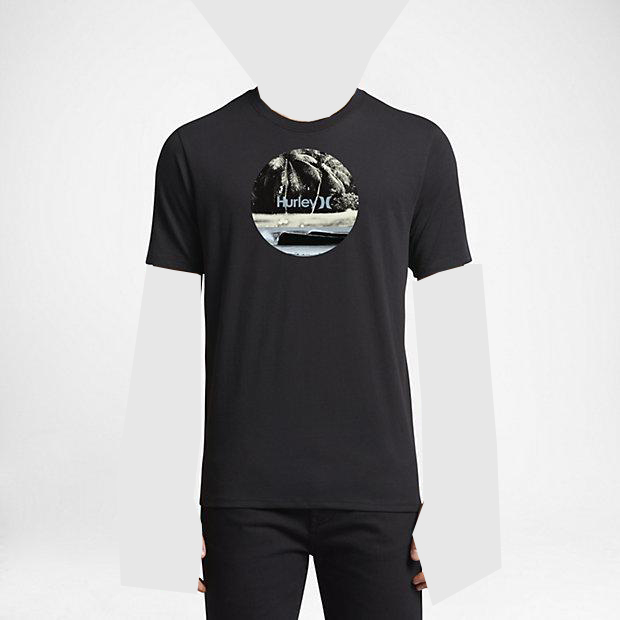teeshirt: (137, 84, 483, 518)
